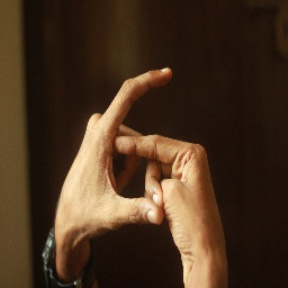E: (84, 66, 194, 231)
